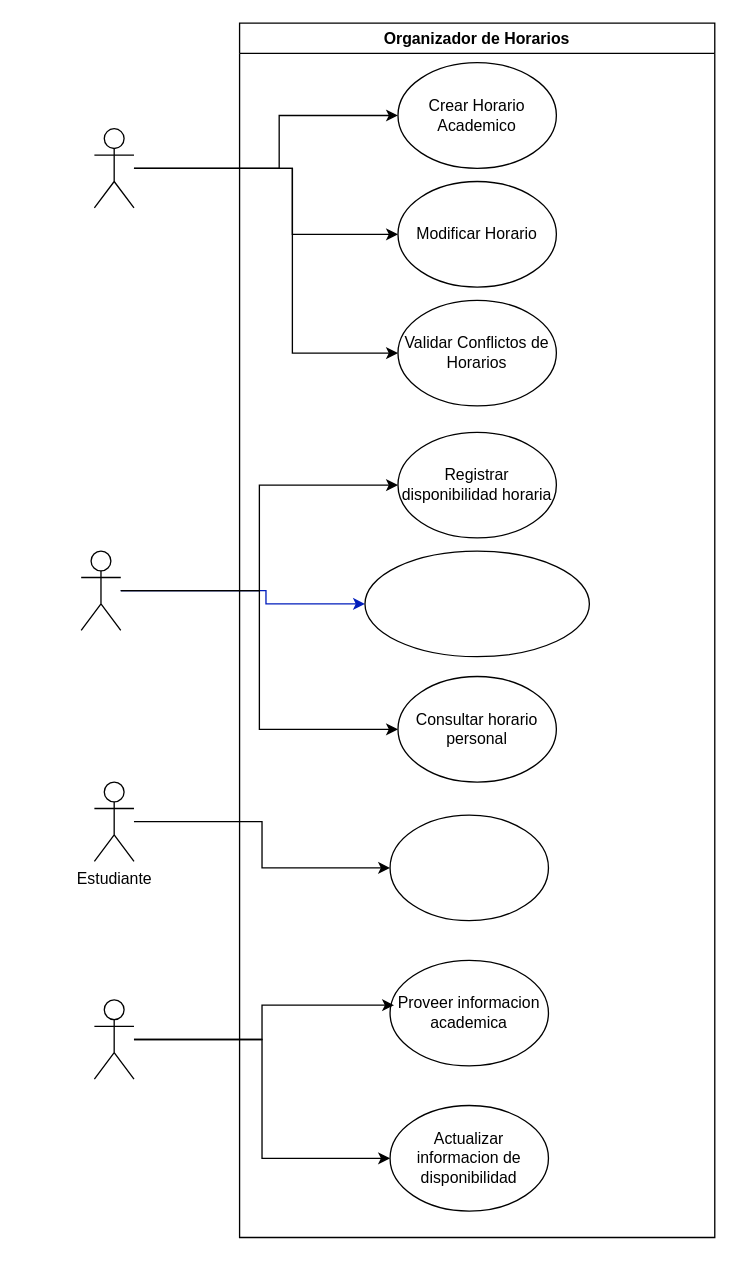
This 738x1261 diagram has some shape labels left out. Each missing label, with the centre of its shape:
"Actualizar restricciones/preferencias a la hora de elegir sala" belongs at point (476, 603).
"Consultar horarios" belongs at point (468, 867).
"Cordinadora Academica" belongs at point (113, 167).
"Docente" belongs at point (100, 590).
"Sistema de base de datos" belongs at point (113, 1039).
